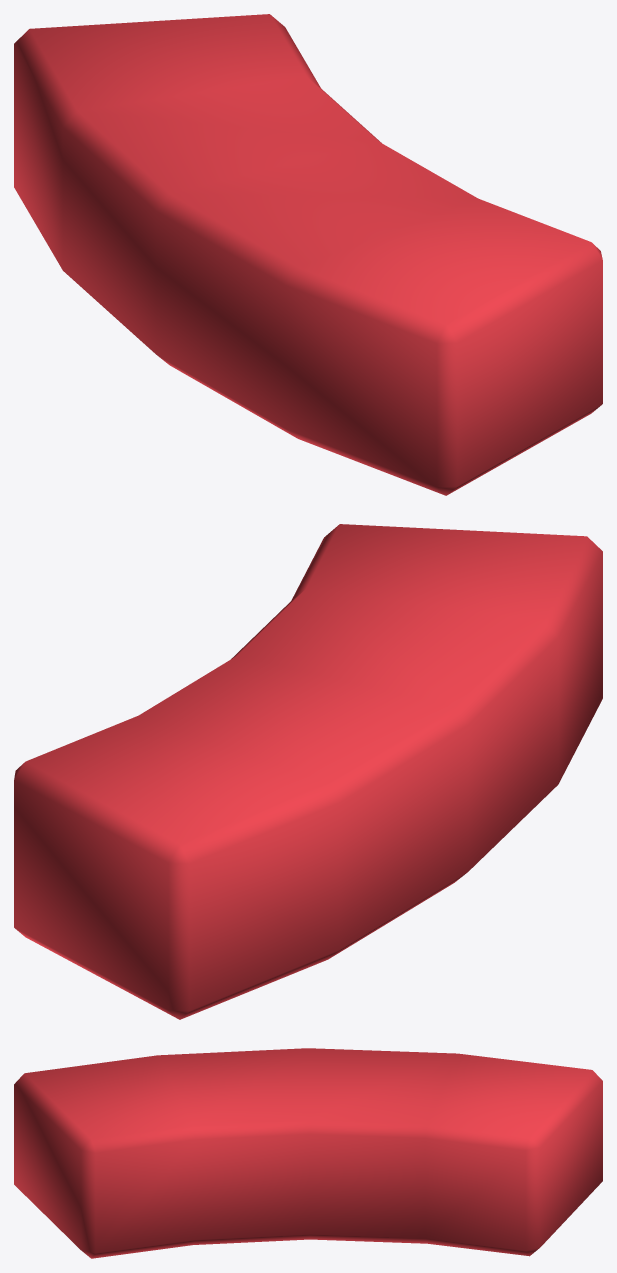
The model's file is target_3_1.fbx.
The picture shows the model from 3 angles, top to bottom: view 1: azimuth 30°, elevation 25°; view 2: azimuth 150°, elevation 25°; view 3: azimuth 270°, elevation 25°; orthographic projection. The views are drawn at different scales.
Visible parts, largest first — view 1: Cylinder; view 2: Cylinder; view 3: Cylinder.
Part boxes in pixels (x1,y1,x2,y2): Cylinder: [14, 14, 602, 495]; Cylinder: [14, 524, 602, 1019]; Cylinder: [14, 1048, 602, 1258].
Size of the model in its own units: 30.23 by 16.92 by 75.47.
